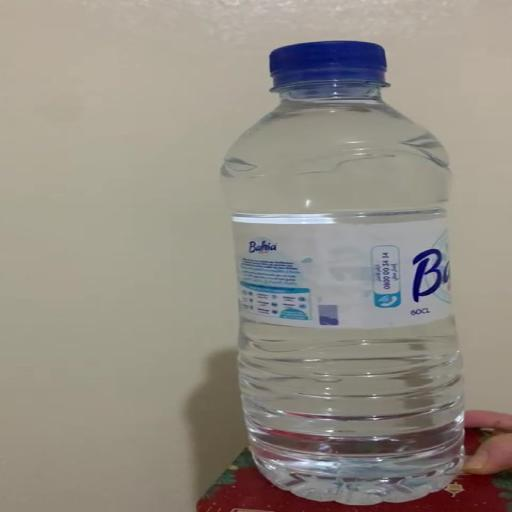bouteille conformite: (180, 28, 453, 503)
